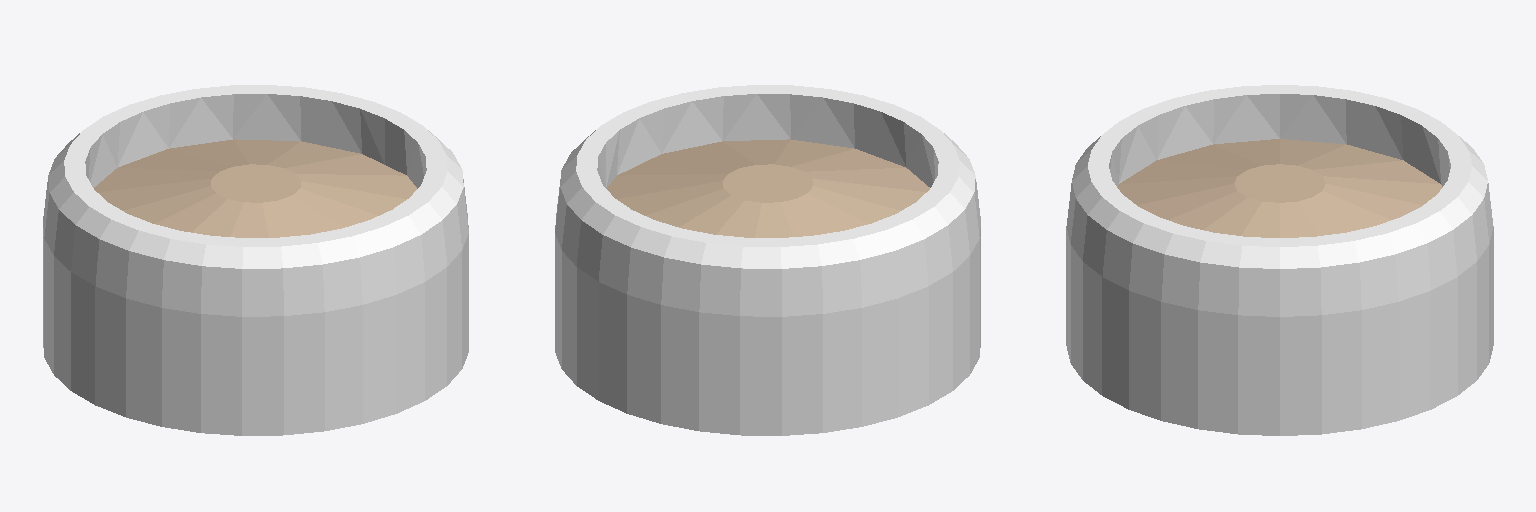
Rendered from wheel1.obj.
3 renders of one model, left to right at view 1: azimuth 30°, elevation 25°; view 2: azimuth 150°, elevation 25°; view 3: azimuth 270°, elevation 25°, orthographic.
Parts seen in each view (by area): view 1: Cylinder1; view 2: Cylinder1; view 3: Cylinder1.
Boxes of the visible parts, x1=… form: Cylinder1: x1=43, y1=85, x2=468, y2=435; Cylinder1: x1=555, y1=85, x2=980, y2=435; Cylinder1: x1=1066, y1=85, x2=1493, y2=435.
Size of the model in its own units: 1.96 by 0.9124 by 1.96.